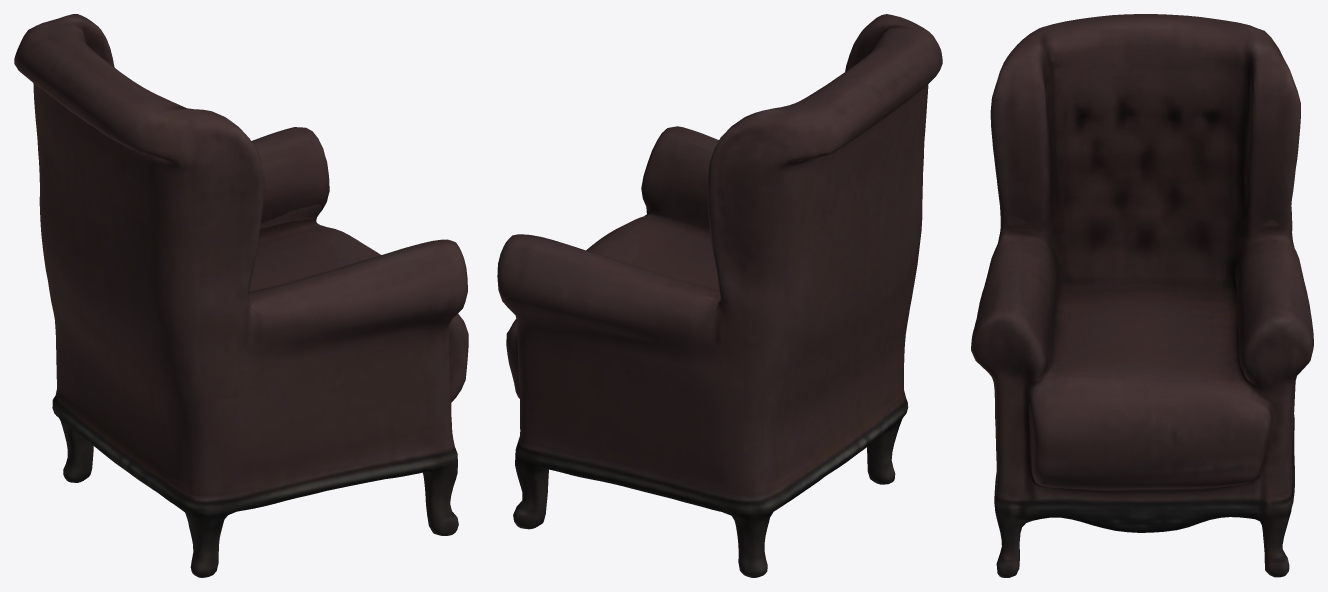
Rendered from 627cfacfdcba_armchair__3d_asset_.fbx.
3 views of the same model, side by side, from view 1: azimuth 30°, elevation 25°; view 2: azimuth 150°, elevation 25°; view 3: azimuth 270°, elevation 25° (orthographic). The views are drawn at different scales.
Visible parts, largest first — view 1: mesh; view 2: mesh; view 3: mesh.
Boxes of the visible parts, x1=… form: mesh: x1=14, y1=14, x2=468, y2=577; mesh: x1=497, y1=14, x2=942, y2=577; mesh: x1=971, y1=14, x2=1313, y2=577.
Bounding box in the file's own units: 75.98 × 99.98 × 71.16.
